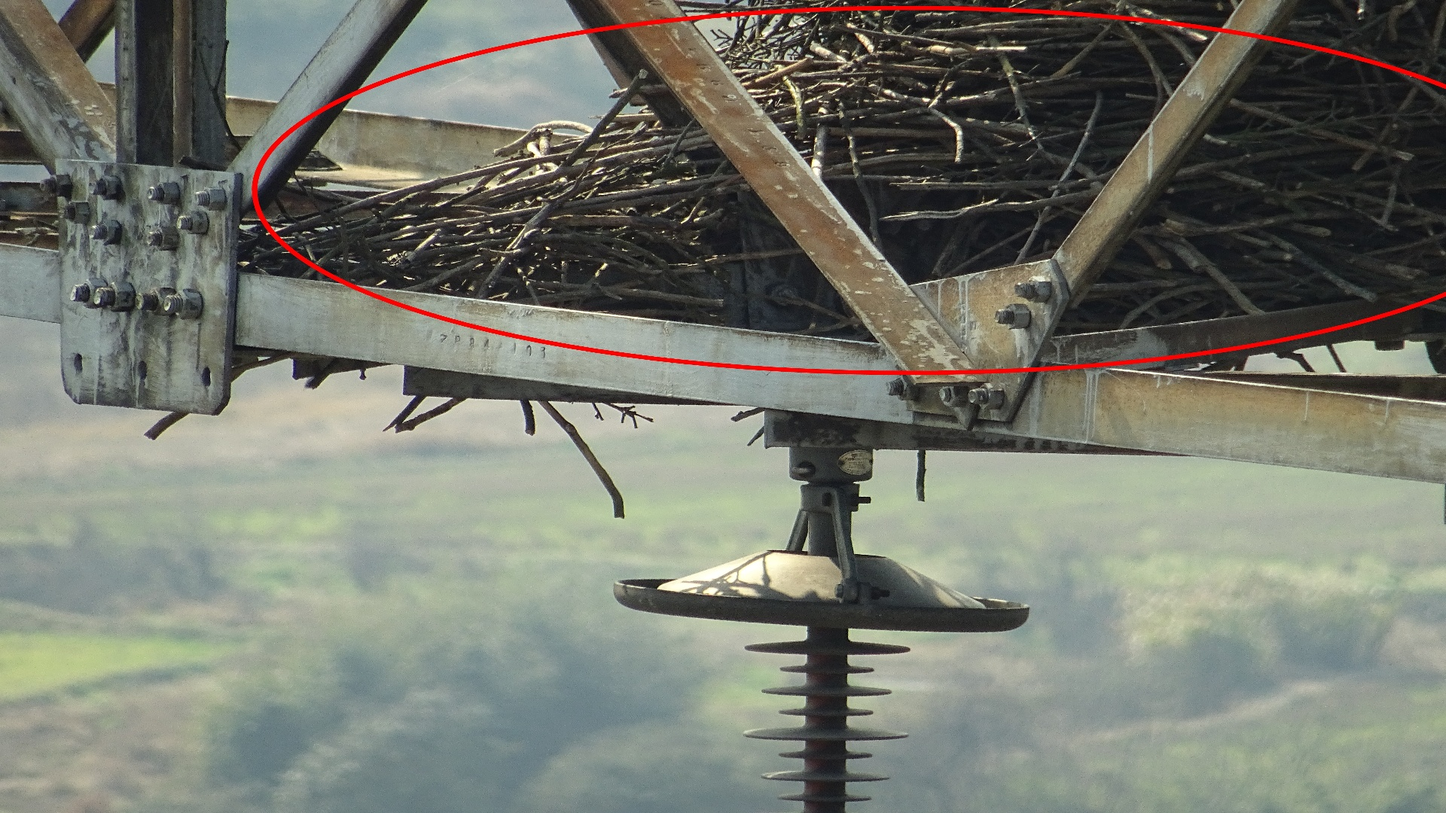insulator: (732, 635, 915, 813)
